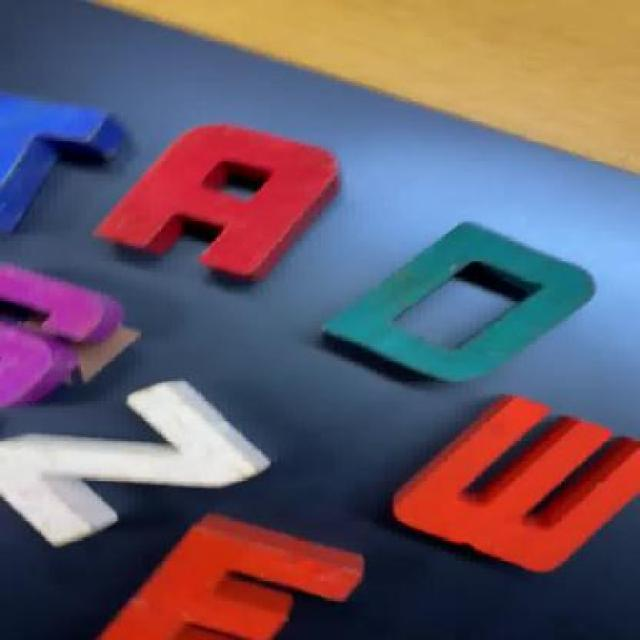A: (99, 121, 352, 285)
D: (323, 224, 612, 396)
E: (61, 515, 367, 640)
W: (388, 387, 640, 582)
Z: (0, 378, 271, 556)
